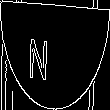N_N: (44, 28, 66, 82)
